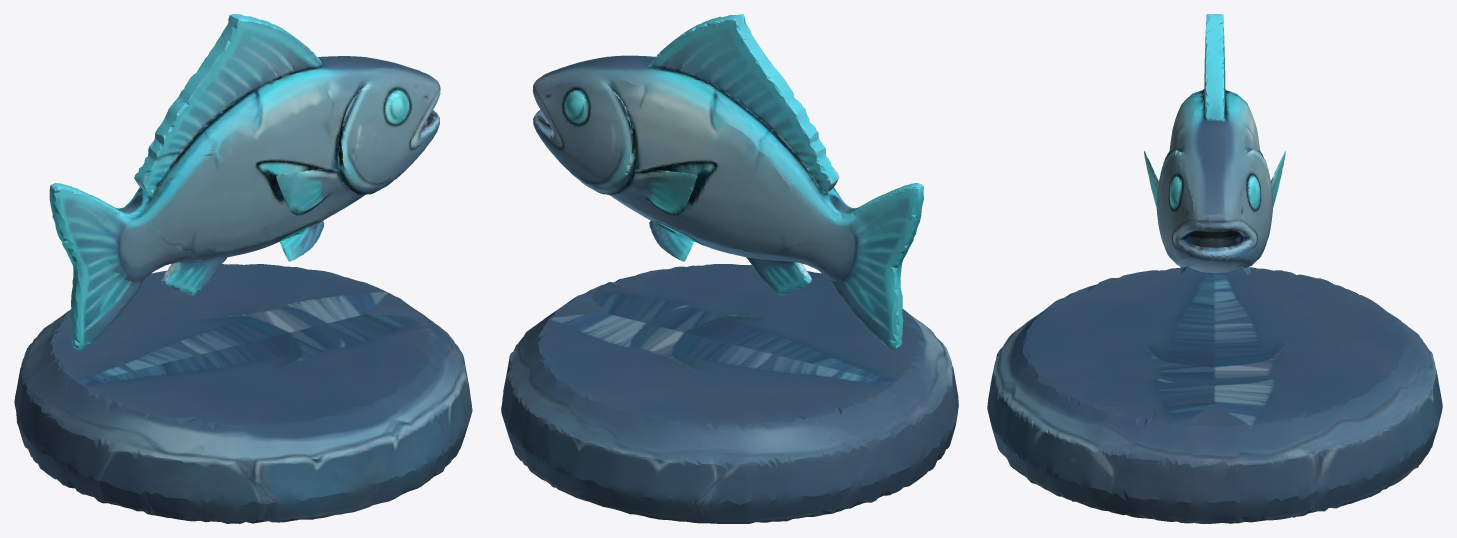
File: Atlantis_StoneFish.glb
3 renders of one model, left to right at view 1: azimuth 30°, elevation 25°; view 2: azimuth 150°, elevation 25°; view 3: azimuth 270°, elevation 25°, orthographic.
Parts seen in each view (by area): view 1: Atlantis_StoneFish; view 2: Atlantis_StoneFish; view 3: Atlantis_StoneFish.
Boxes of the visible parts, left/top/right/bottom form: Atlantis_StoneFish: left=14, top=14, right=472, bottom=523; Atlantis_StoneFish: left=501, top=14, right=958, bottom=523; Atlantis_StoneFish: left=987, top=14, right=1442, bottom=523.
Bounding box in the file's own units: 1.49 × 1.5 × 1.5.
Materials: 1 (1 with a texture image).
